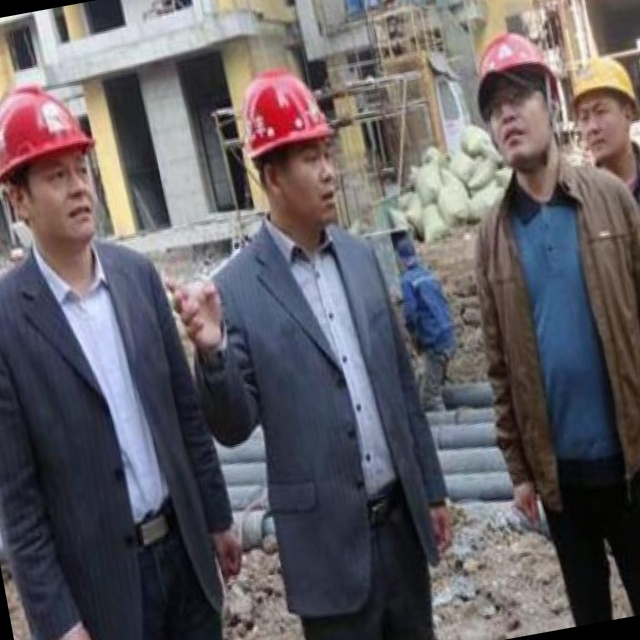Sin_Chaleco: (0, 232, 235, 599), (214, 208, 442, 548), (469, 152, 640, 494)
